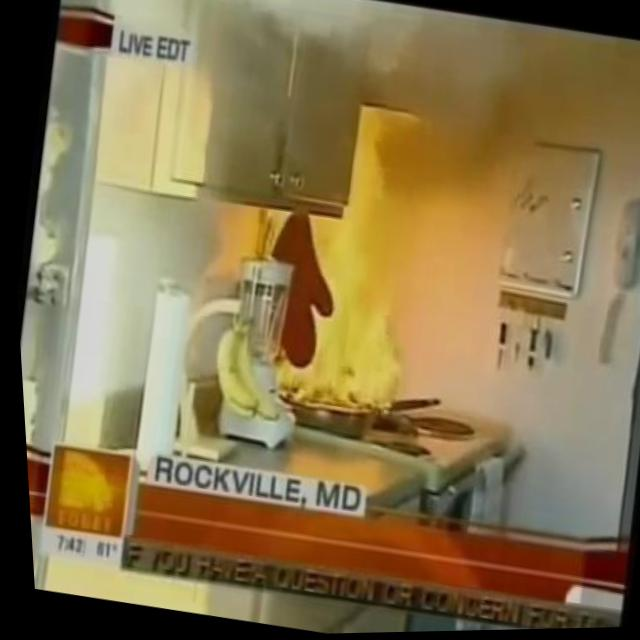fire: (281, 210, 420, 418)
